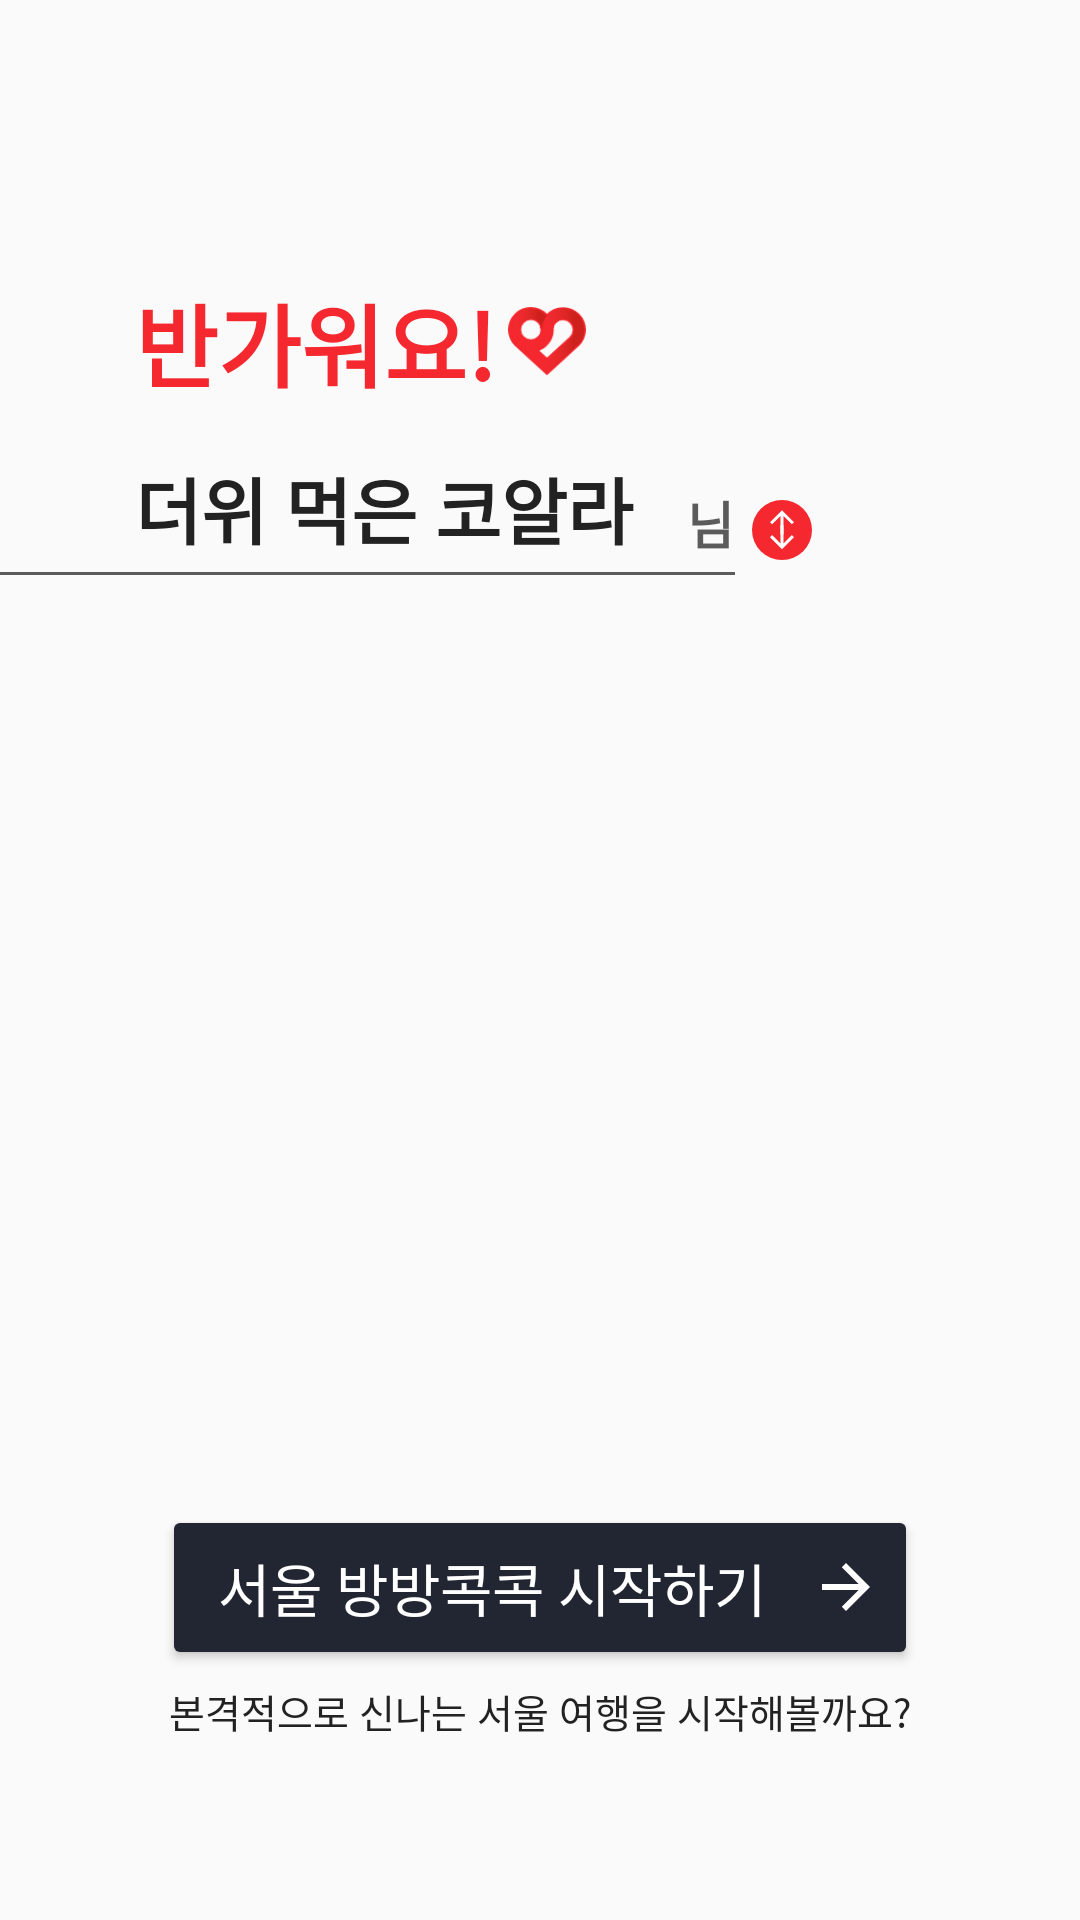

Where to tap for icons on this 1080x1920 app screen, as point (x, y):
change: point (782, 530)
heart: point (547, 341)
